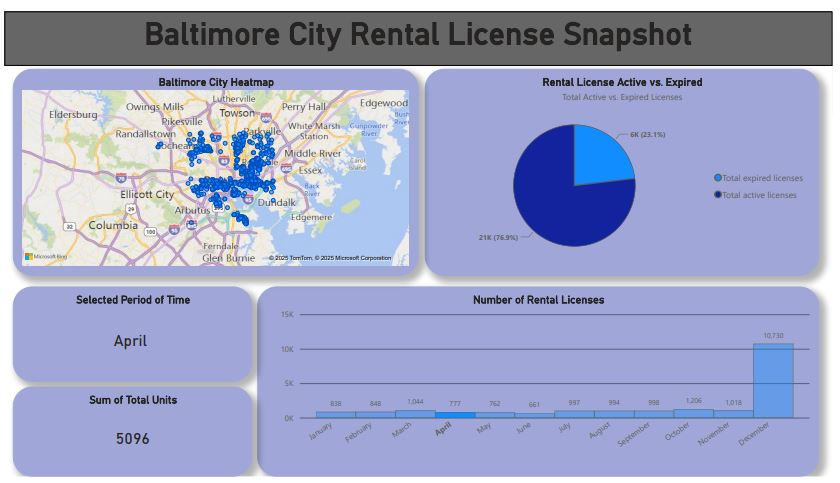

What the dashboard file says about the page in this screenshot:
{"tool":"powerbi","page":{"name":"Page 1","canvas":[1280,720],"ordinal":0},"visuals":[{"type":"pieChart","title":"Rental License Active vs. Expired","fields":{"Y":["Sum(license_time_series.expired_count)","Sum(license_time_series.active_count)"]},"box":[650.3,88.7,609,320],"z":0},{"type":"clusteredColumnChart","title":"Number of Rental Licenses","fields":{"Y":["CountNonNull(current_license_summary.license_number)"],"Category":["current_license_summary.expiration_date.Variation.Date Hierarchy.Year","current_license_summary.expiration_date.Variation.Date Hierarchy.Quarter","current_license_summary.expiration_date.Variation.Date Hierarchy.Month","current_license_summary.expiration_date.Variation.Date Hierarchy.Day"]},"box":[390.9,425.7,868.4,294.1],"z":1000},{"type":"actionButton","box":[0,0,100,40],"z":2000},{"type":"map","title":"Baltimore City Heatmap","fields":{"Category":["current_license_summary.full_address"]},"box":[12.6,88.7,627.4,320],"z":3000},{"type":"card","title":"Selected Period of Time","fields":{"Values":["current_license_summary.Selected Period Label"]},"box":[12.6,425.7,370.3,147.8],"z":4000},{"type":"card","title":"Sum of Total Units","fields":{"Values":["Sum(current_license_summary.total_unit_count)"]},"box":[12.6,580.9,370.3,138.9],"z":5000},{"type":"textbox","box":[0,0,1280,83.5],"z":6000}]}

Visuals, with their boxes in screenshot pixels (x1, y1, x2, y2), scaled from the page's 1280x720 canvas onto the 840x483 screenshot:
"Rental License Active vs. Expired" pieChart: 427,60,826,274
"Number of Rental Licenses" clusteredColumnChart: 257,286,826,482
actionButton: 0,0,66,27
"Baltimore City Heatmap" map: 8,60,420,274
"Selected Period of Time" card: 8,286,251,385
"Sum of Total Units" card: 8,390,251,482
textbox: 0,0,839,56
